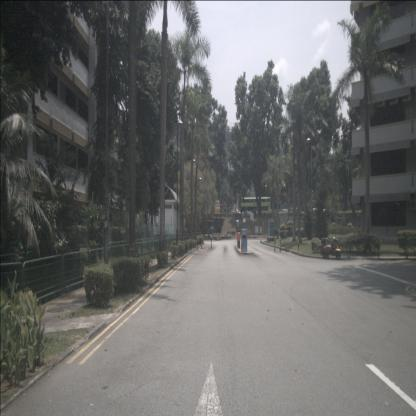vehicle-bus-rigid: (241, 196, 271, 216)
vehicle-car: (231, 211, 242, 219), (278, 209, 289, 216)
vehicle-motorcycle: (322, 235, 341, 260)
